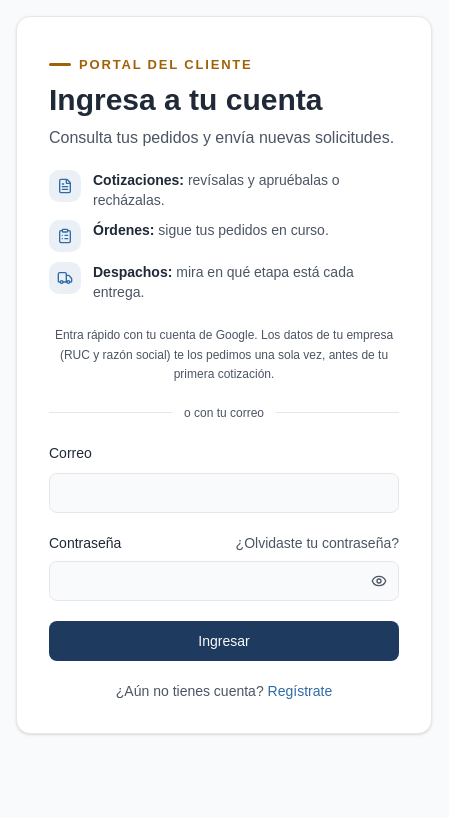
IngresoClientePage › con una contraseña incorrecta no aparece el enlace al ingreso del personal
In the field labelled "Correo": (224, 493) [49,473,399,513], type "compras@minera.pe"
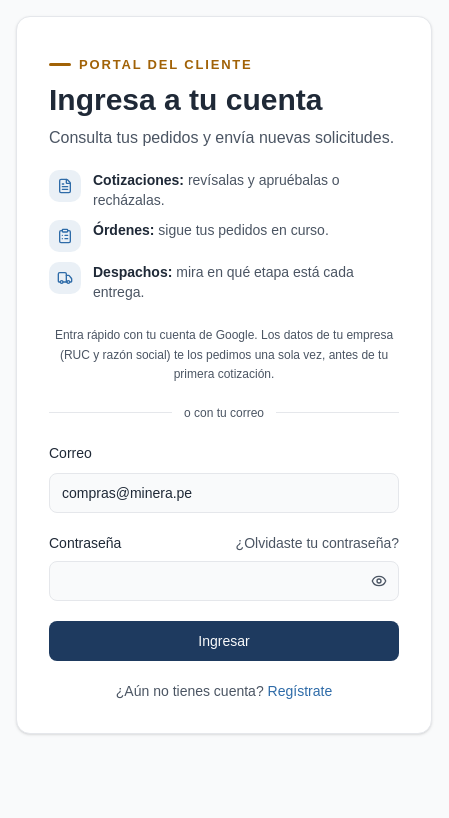
In the password field labelled "Contraseña": (224, 581) [49,561,399,601], type "secreta123"
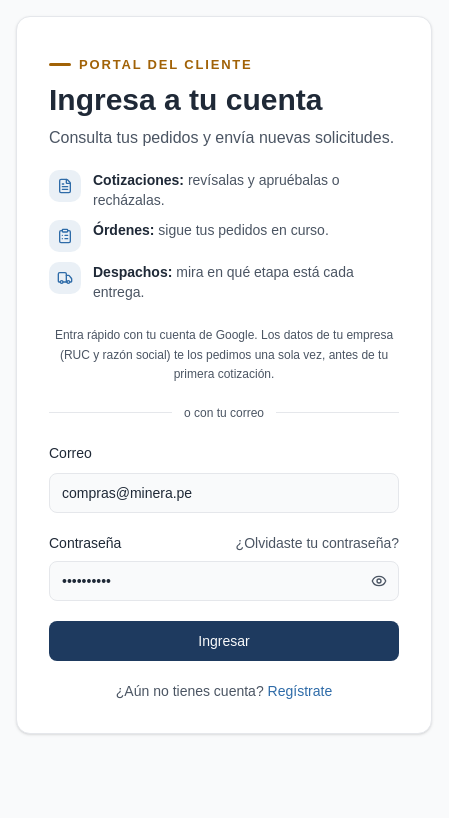
Click the button "Ingresar": (224, 641) [49,621,399,661]
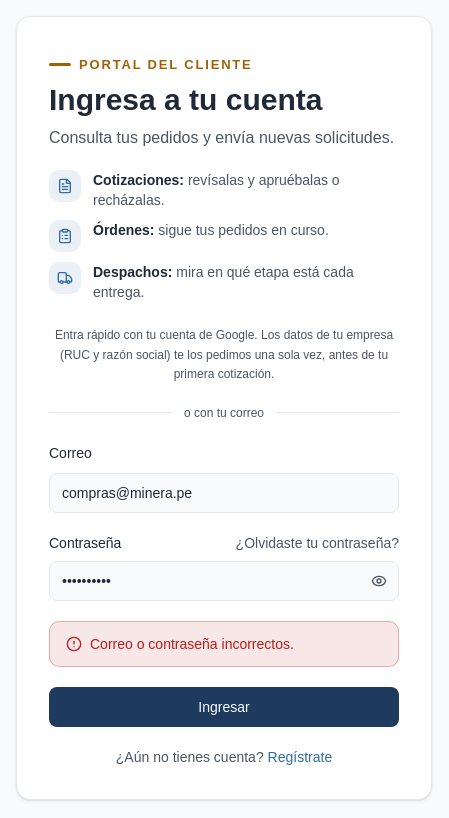
Expected: the text "Correo o contraseña incorrectos." is shown, [90,634,294,654]
